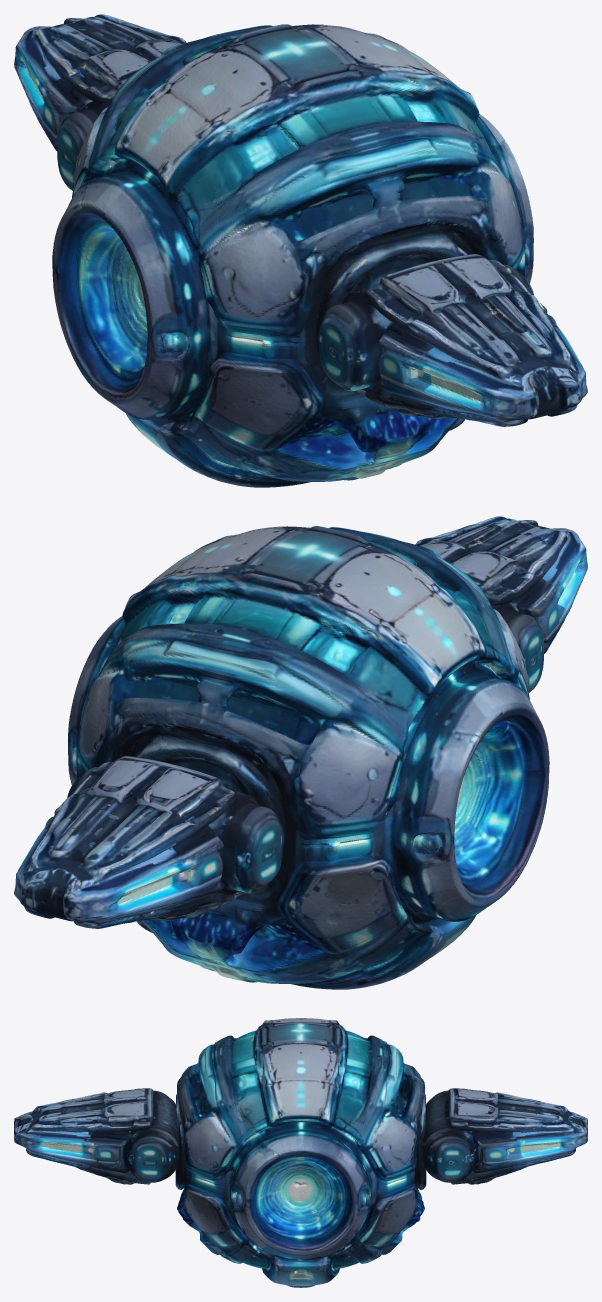
The model's file is drone.glb.
3 renders of one model, top to bottom at view 1: azimuth 30°, elevation 25°; view 2: azimuth 150°, elevation 25°; view 3: azimuth 270°, elevation 25°, orthographic. The views are drawn at different scales.
Visible parts, largest first — view 1: tripo_node_e8e99ce3-6207-4825-b3f6-fefdb190c182; view 2: tripo_node_e8e99ce3-6207-4825-b3f6-fefdb190c182; view 3: tripo_node_e8e99ce3-6207-4825-b3f6-fefdb190c182.
Part boxes in pixels (x1,y1,x2,y2): tripo_node_e8e99ce3-6207-4825-b3f6-fefdb190c182: (14,14,587,487); tripo_node_e8e99ce3-6207-4825-b3f6-fefdb190c182: (14,516,587,989); tripo_node_e8e99ce3-6207-4825-b3f6-fefdb190c182: (14,1018,587,1287).
Size of the model in its own units: 0.44 by 0.4644 by 1.
Materials: 1 (1 with a texture image).
